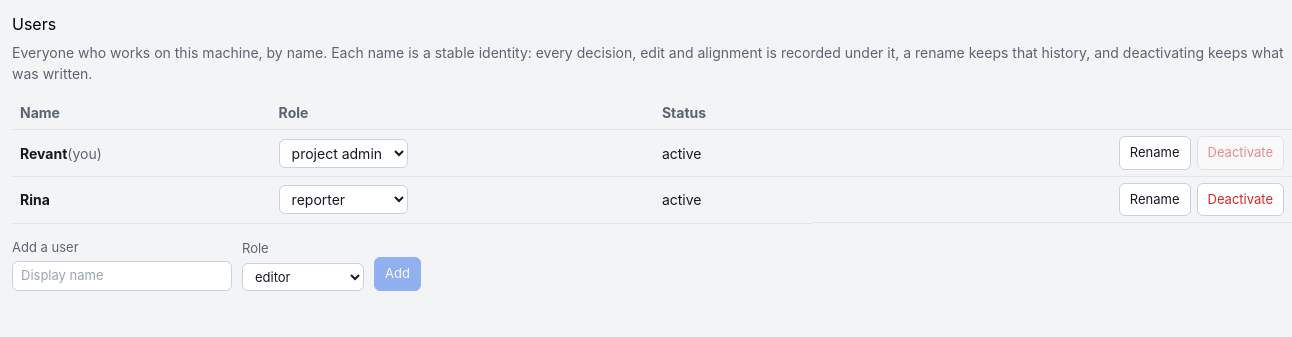
UsersPane (#237) › a project admin adds, renames, re-roles and deactivates; never themselves
Check: the text "Rina" is shown, box [20,191,50,208]
Check: the text "(you)" is shown, box [67,144,102,162]
Type "Anju" into the field named "Display name" at (122, 276), box [12,261,232,290]
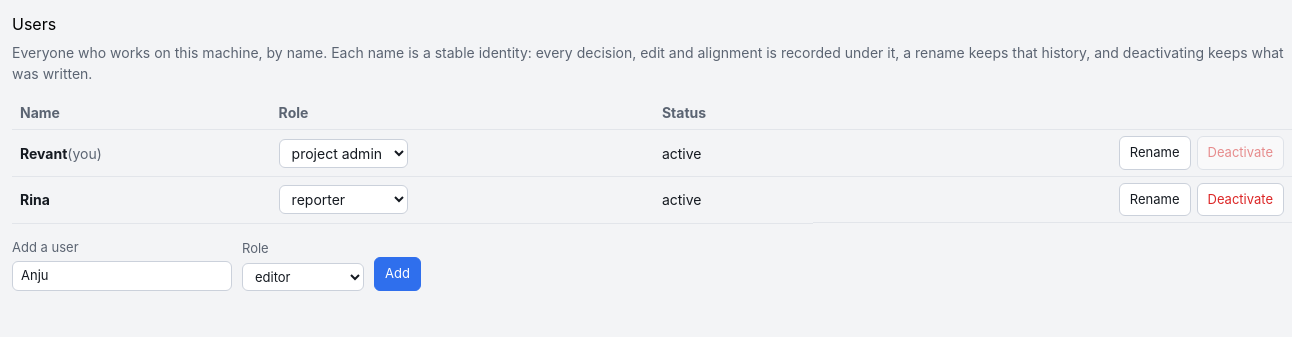
Select "editor" in the dropdown named "Role for the new user" at (303, 276), box [242,262,364,290]
Click the button "Add" at (397, 274), box [374,257,421,290]
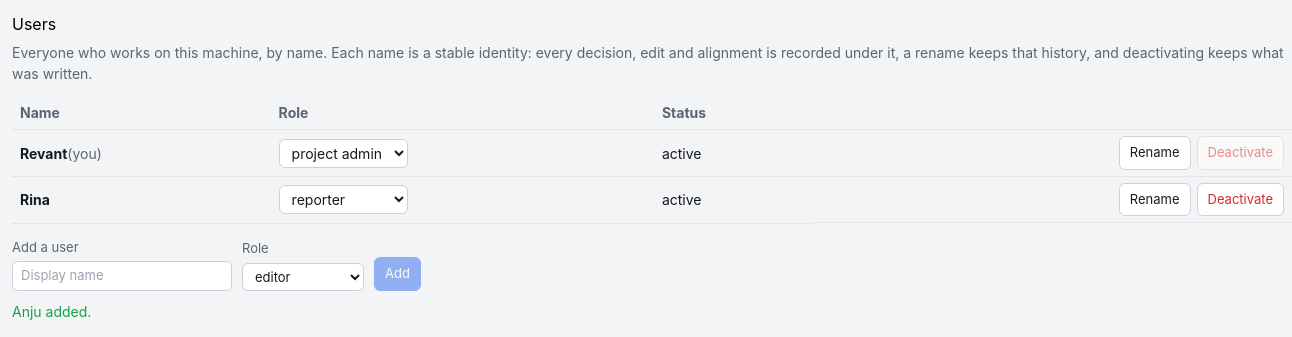
Check: the text "Anju added." is shown, box [12,302,91,320]
Click the button "Rename" in the row of "Rina" at (1155, 199), box [1119,182,1190,216]
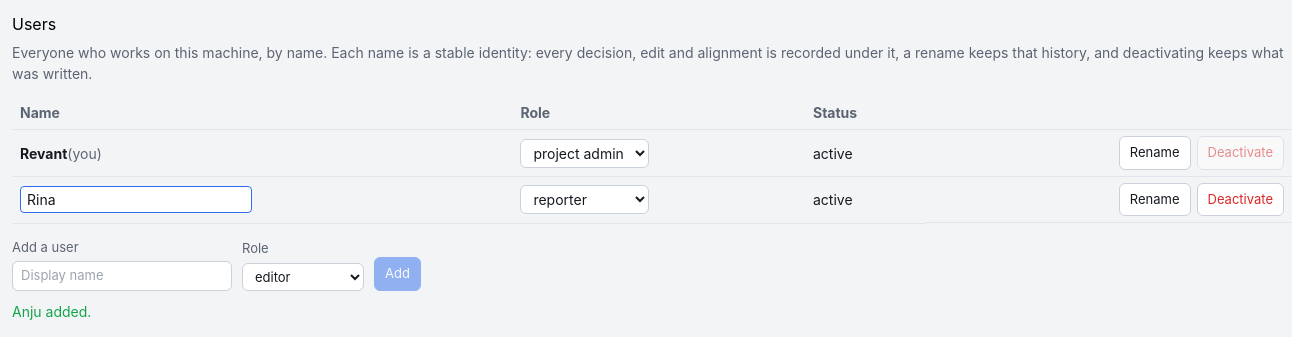
Replace the text in the field named "New name for Rina" with "Rina S" at (136, 200), box [20,186,252,213]
Press Enter in the field named "New name for Rina", box [20,186,252,213]
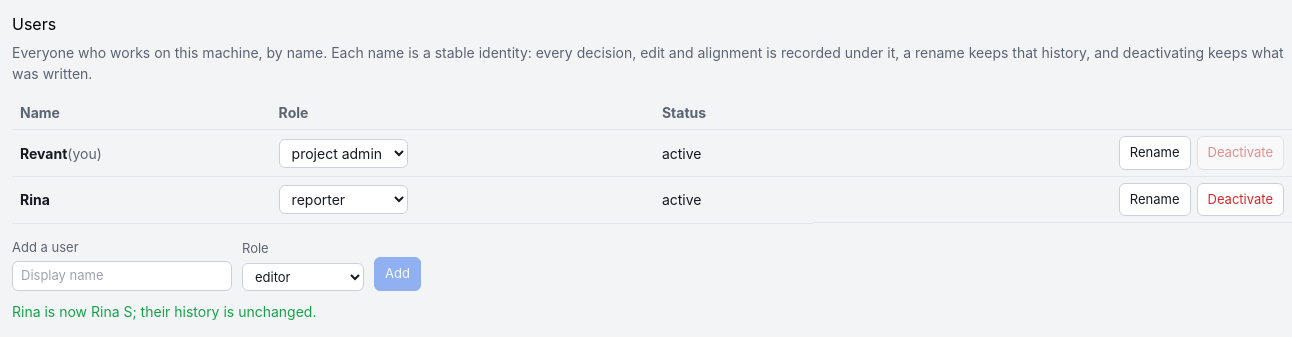
Check: the text "Rina is now Rina S; their history is unchanged." is shown, box [12,302,316,320]
Select "editor" in the dropdown named "Role for Rina" at (343, 200), box [279,185,408,214]
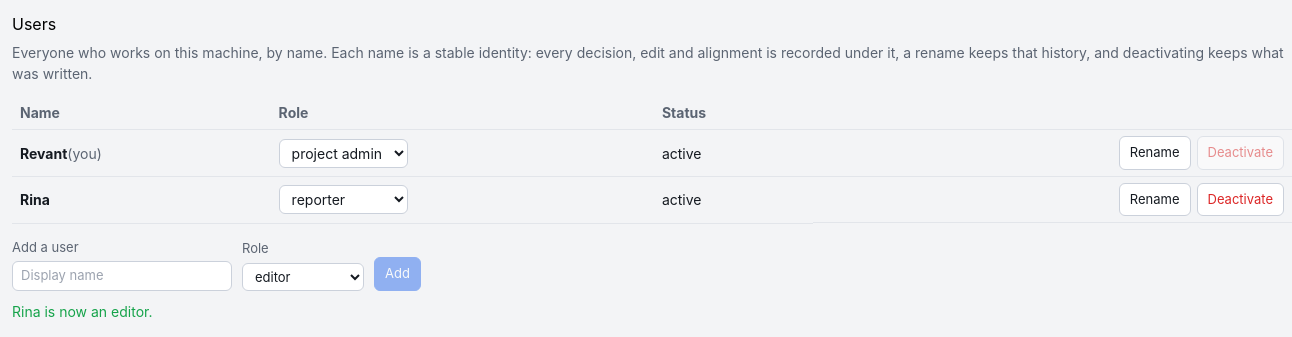
Check: the button "Deactivate" in the row of "Revant" is disabled, box [1196,136,1284,170]
Click the 2nd button "Deactivate" at (1240, 199), box [1196,182,1284,216]
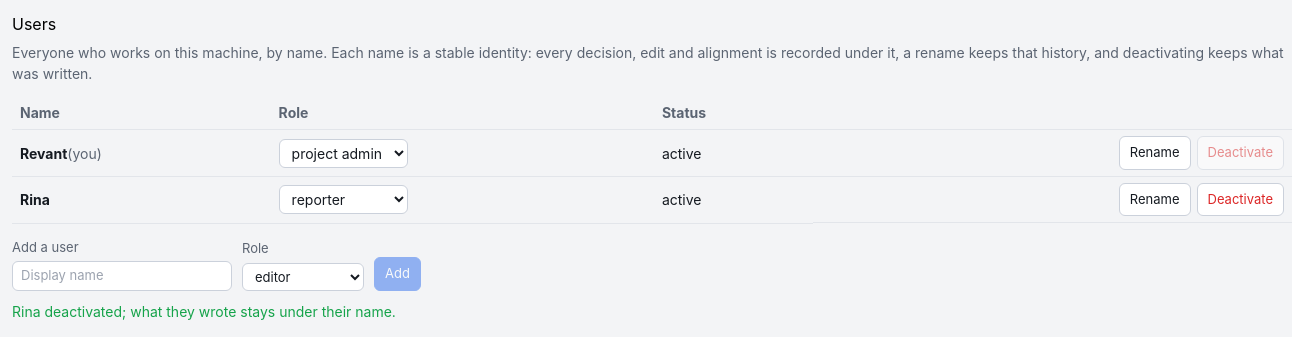
Check: the text "Rina deactivated; what they wrote stays under their name." is shown, box [12,302,396,320]
